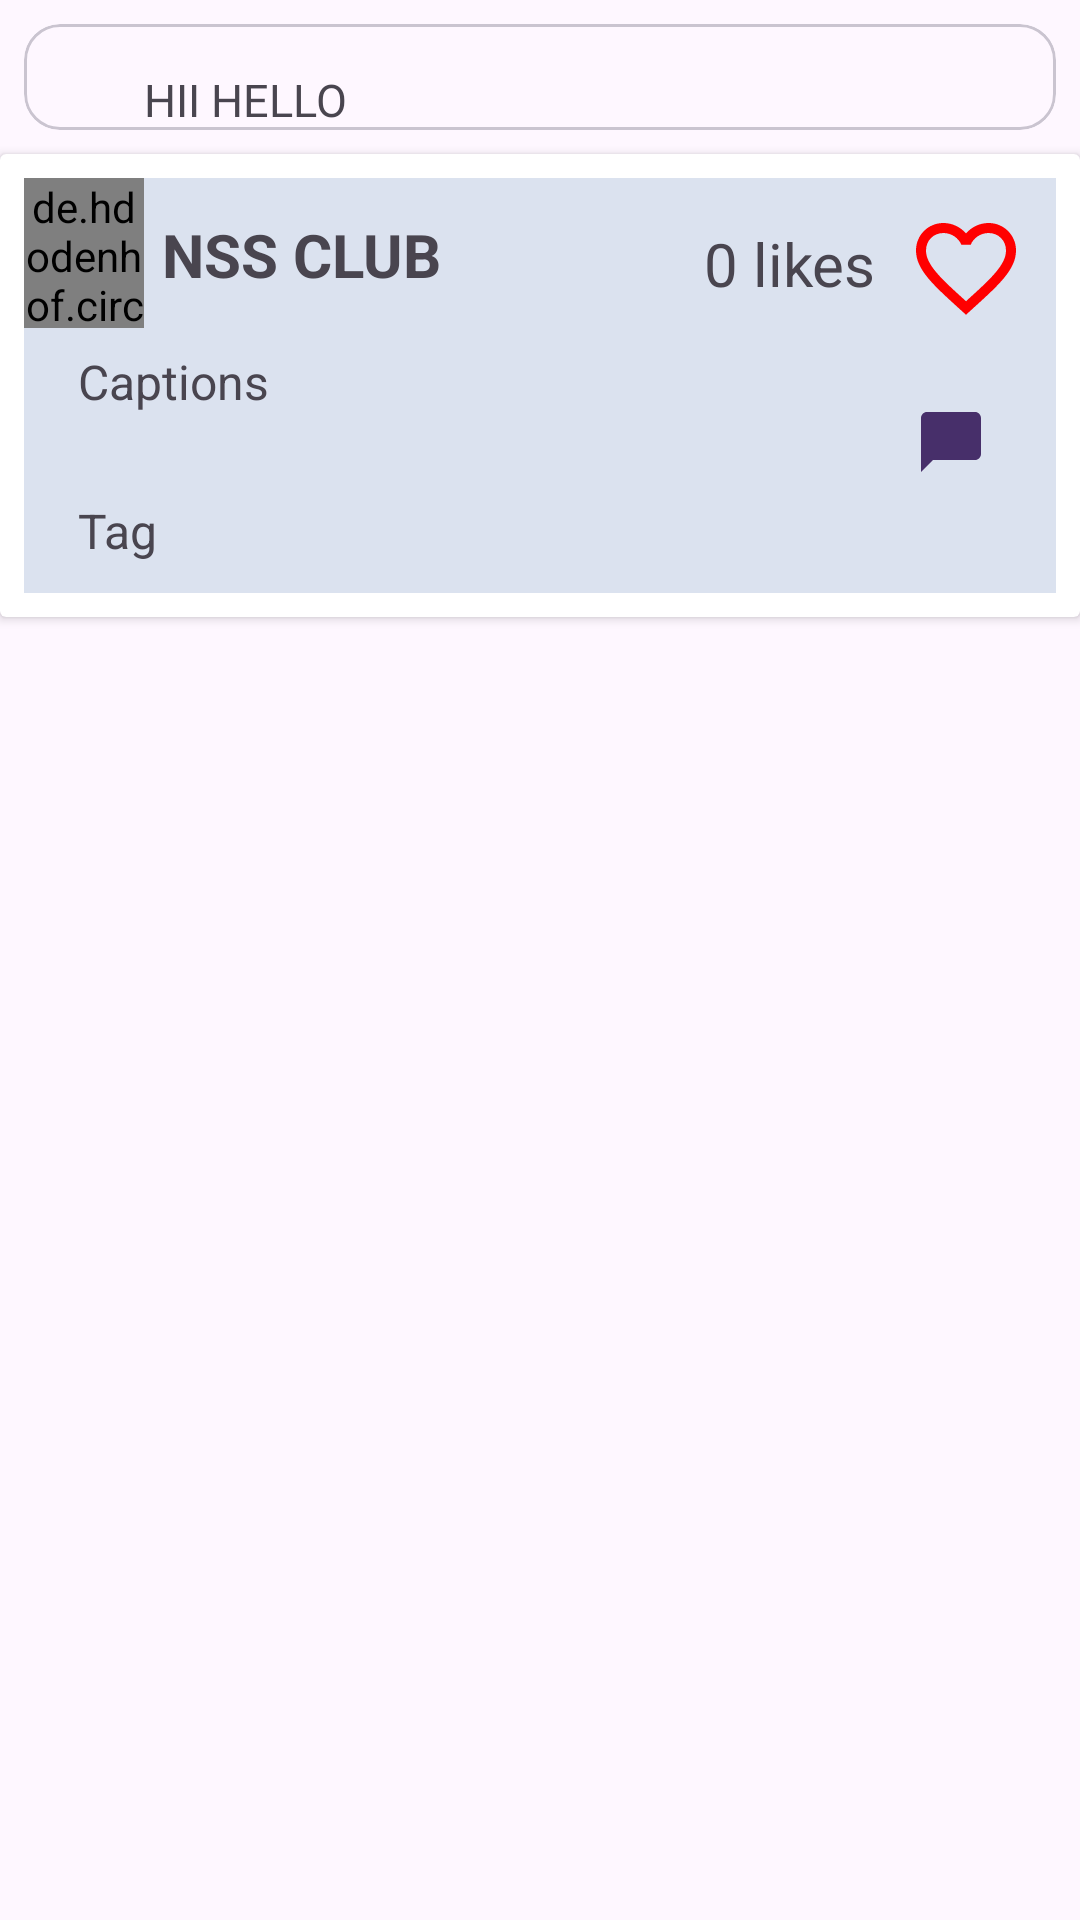

Screen size 1080w x 1920h. Icon name, then its box in pixels as (x1, y1, x2, y2):
chat bubble: (921, 412, 981, 472)
favorite border: (916, 223, 1016, 315)
